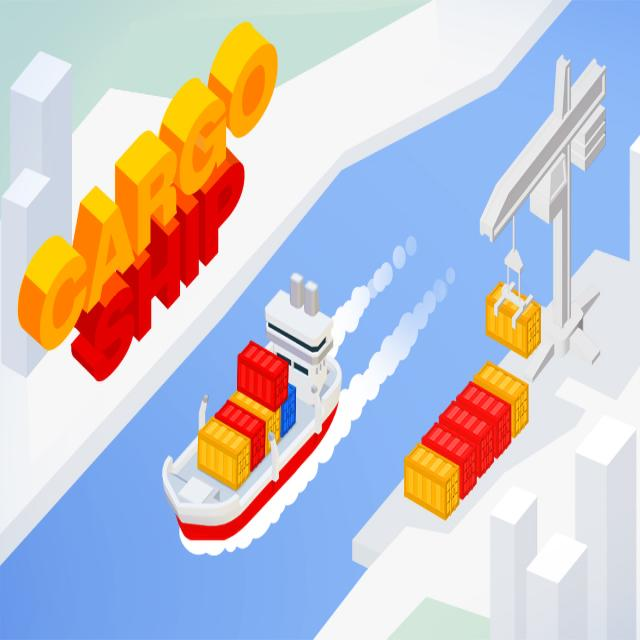boat: (160, 271, 342, 557)
